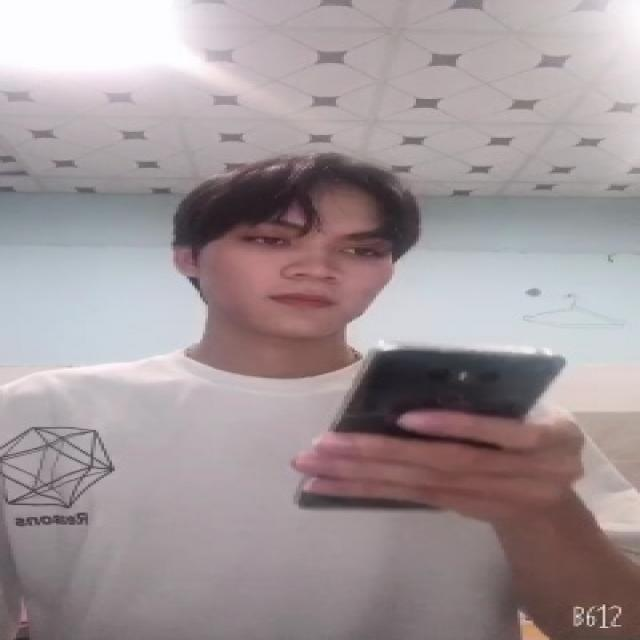Phone: (293, 344, 567, 516)
